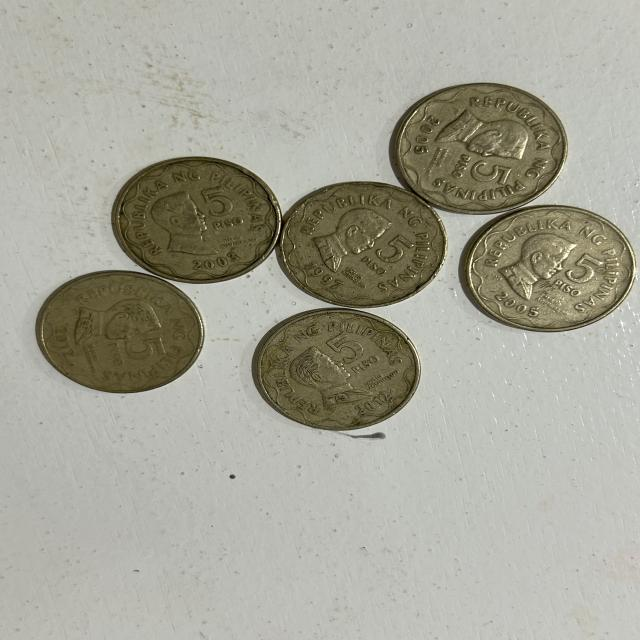5_Old_Front: (548, 248, 605, 305), (195, 190, 258, 238), (102, 336, 184, 372), (325, 325, 380, 378), (448, 150, 516, 192), (355, 232, 421, 275)
